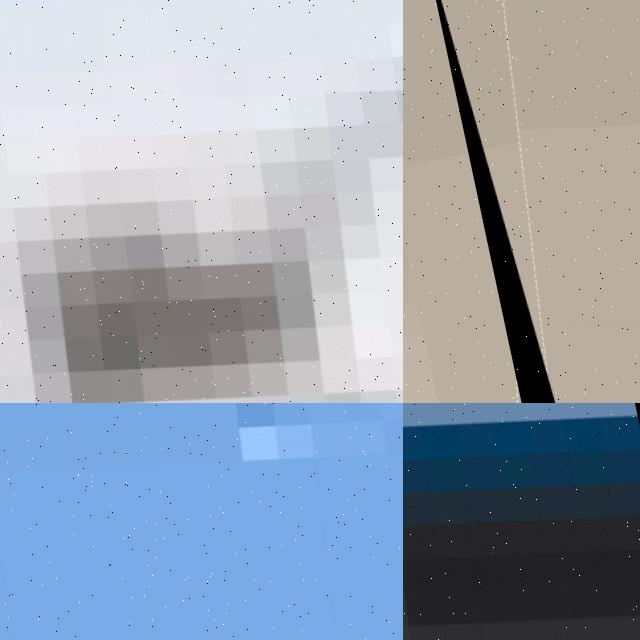drone: (0, 0, 403, 403), (0, 403, 403, 640), (418, 0, 640, 403), (403, 403, 640, 640)
